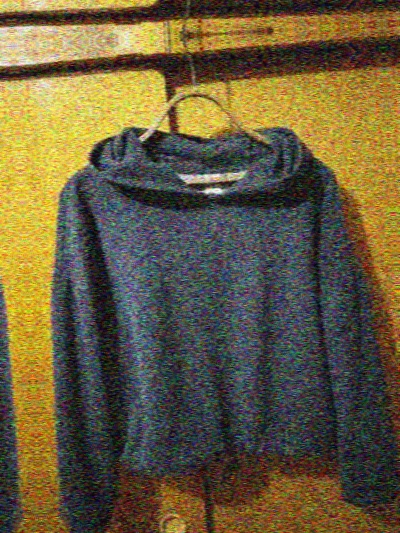Hoodie: (16, 80, 393, 533), (0, 101, 42, 533), (0, 0, 9, 11)
